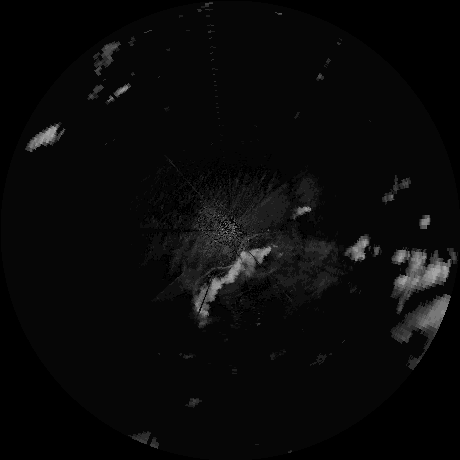frontgust: (194, 263, 231, 291), (234, 230, 264, 259)
